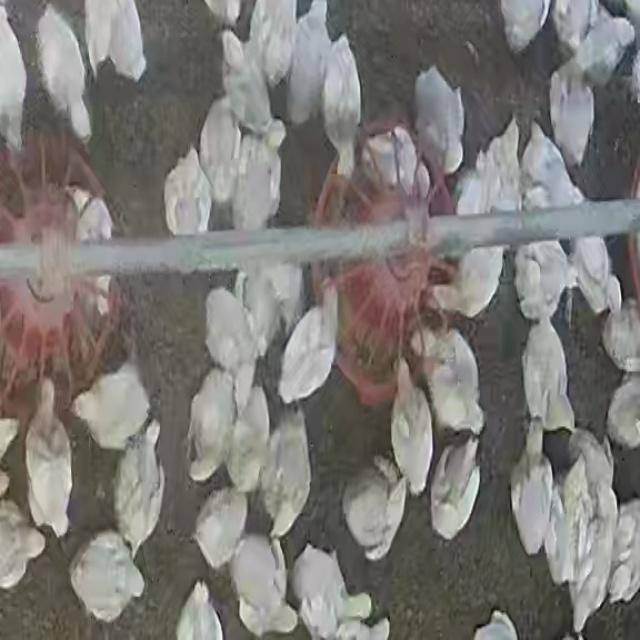chicken: (33, 5, 93, 144), (23, 385, 75, 539), (73, 358, 155, 454), (65, 530, 144, 624), (340, 458, 410, 561), (228, 534, 296, 637), (424, 327, 484, 442), (113, 422, 164, 557), (518, 317, 574, 438), (386, 355, 434, 496), (412, 64, 464, 191), (518, 122, 586, 218), (286, 3, 336, 132), (284, 277, 335, 403), (262, 410, 312, 537), (290, 542, 354, 640), (428, 244, 506, 324), (201, 292, 252, 413), (221, 24, 271, 144), (321, 33, 363, 174), (510, 424, 554, 557), (235, 119, 285, 235), (566, 8, 635, 92), (428, 437, 483, 542), (82, 1, 147, 89), (185, 368, 234, 484), (225, 378, 271, 498), (240, 264, 300, 356), (192, 484, 250, 572), (167, 152, 216, 256), (574, 484, 609, 629), (548, 70, 596, 175), (512, 240, 572, 323), (549, 449, 585, 587), (196, 91, 237, 205), (249, 0, 297, 90), (1, 500, 46, 590), (361, 123, 412, 200), (604, 498, 640, 606), (569, 237, 615, 318), (490, 115, 528, 206), (498, 1, 553, 56), (174, 580, 226, 638), (600, 300, 640, 374), (605, 372, 640, 450), (457, 149, 492, 227), (551, 1, 595, 60), (70, 190, 116, 243)
